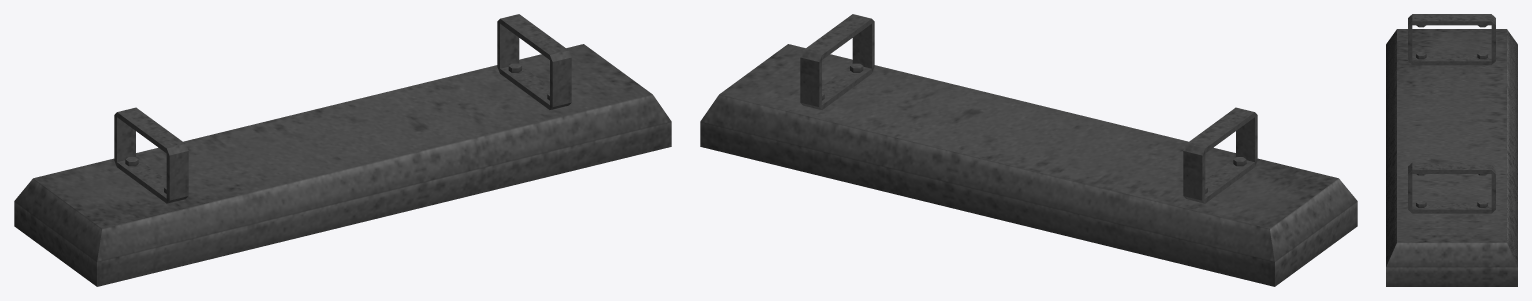
The model's file is ceiling_lamp_4_a_off.obj.
3 views of the same model, side by side, from view 1: azimuth 30°, elevation 25°; view 2: azimuth 150°, elevation 25°; view 3: azimuth 270°, elevation 25° (orthographic). The views are drawn at different scales.
Visible parts, largest first — view 1: ceiling_lamp_4_a_off; view 2: ceiling_lamp_4_a_off; view 3: ceiling_lamp_4_a_off.
Boxes of the visible parts, x1=… form: ceiling_lamp_4_a_off: x1=14, y1=14, x2=671, y2=286; ceiling_lamp_4_a_off: x1=700, y1=14, x2=1357, y2=286; ceiling_lamp_4_a_off: x1=1386, y1=14, x2=1517, y2=286.
Size of the model in its own units: 1.2 by 0.21 by 0.3.
